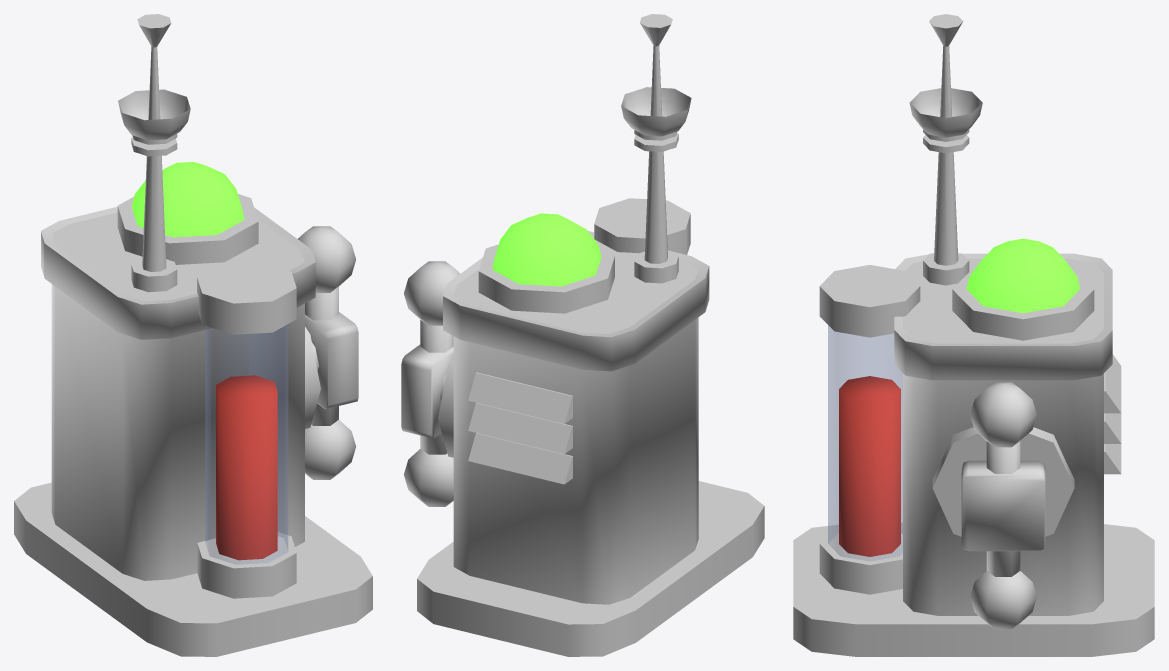
The model's file is LongSwitch.glb.
3 renders of one model, left to right at view 1: azimuth 30°, elevation 25°; view 2: azimuth 150°, elevation 25°; view 3: azimuth 270°, elevation 25°, orthographic. The views are drawn at different scales.
Parts seen in each view (by area): view 1: LongSwitchBase, ProgressBar, Handle, LongLightBulb; view 2: LongSwitchBase, Handle, LongLightBulb; view 3: LongSwitchBase, Handle, ProgressBar, LongLightBulb.
Boxes of the visible parts, x1,y1,x2,y2 form: LongSwitchBase: (14,14,372,656); ProgressBar: (216,375,277,560); Handle: (298,226,358,479); LongLightBulb: (132,162,244,237); LongSwitchBase: (417,14,764,656); Handle: (401,261,460,506); LongLightBulb: (492,213,601,286); LongSwitchBase: (793,14,1154,656); Handle: (961,382,1045,629); ProgressBar: (839,376,900,556); LongLightBulb: (966,238,1079,313).
Bounding box in the file's own units: 1.85 × 3.68 × 2.16.
